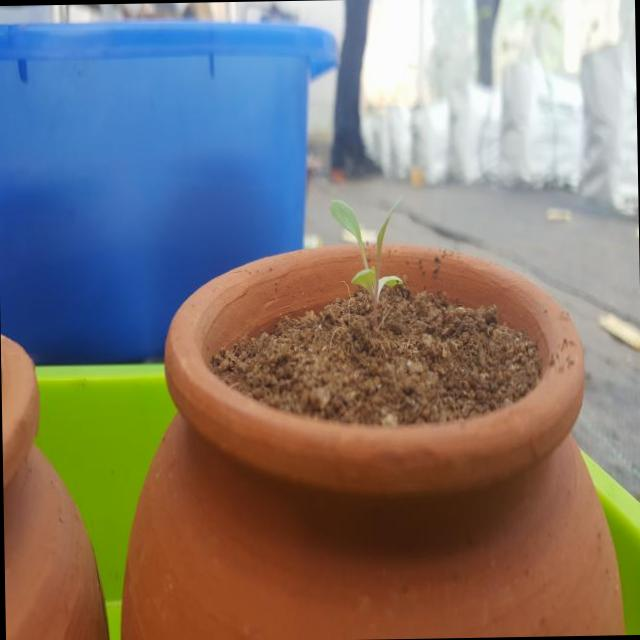Lettuce-Not-Ready-to-Harvest: (328, 200, 399, 301), (375, 196, 401, 264)
